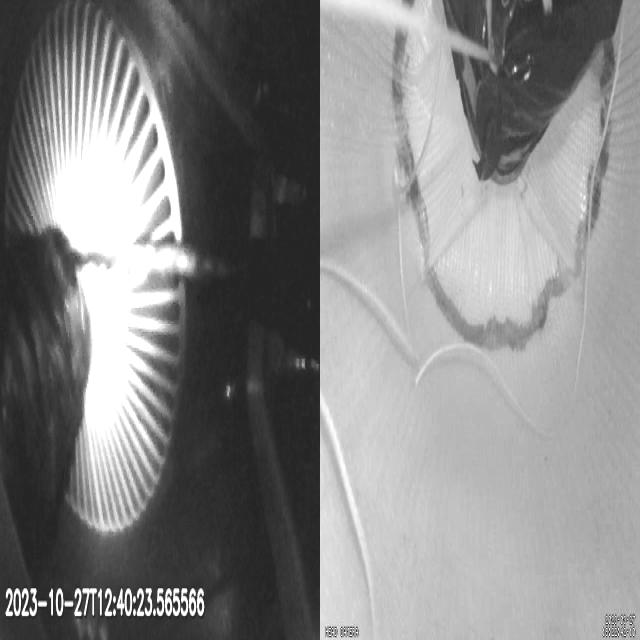red-circle: (390, 0, 616, 352)
